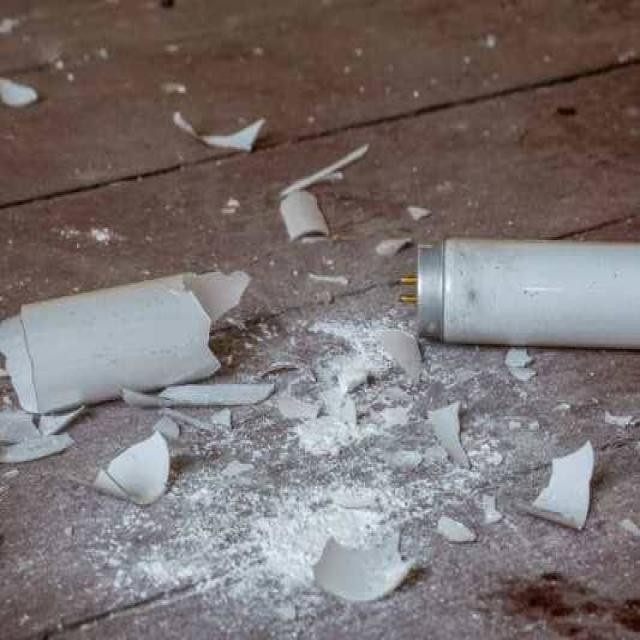bulb: (8, 171, 640, 483)
